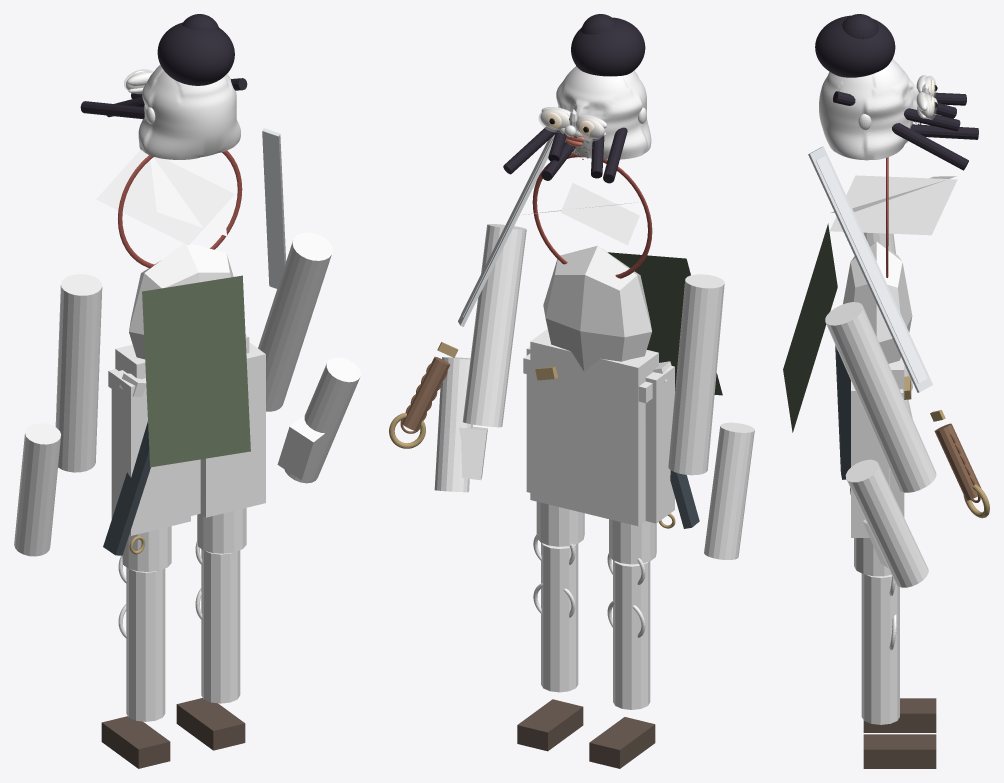
Rendered from ronin_character_v0.6.glb.
The picture shows the model from 3 angles, left to right: view 1: azimuth 30°, elevation 25°; view 2: azimuth 150°, elevation 25°; view 3: azimuth 270°, elevation 25°; orthographic projection. The views are drawn at different scales.
Visible parts, largest first — view 1: Cloth_Cloak_0, Cloth_SleeveUpper_L, Skin_Head, Cloth_Hem_1, Cloth_SleeveUpper_R, Cloth_TrouserShin_L, Cloth_TrouserShin_R, Cloth_Hem_2, Cloth_Lapel_L, Cloth_SleeveFore_L, Hair_Bun, Cloth_ShortTunic (+12 smaller); view 2: Cloth_Hem_0, Cloth_ShortTunic, Cloth_SleeveUpper_L, Cloth_SleeveUpper_R, Cloth_TrouserShin_R, Skin_Head, Cloth_TrouserShin_L, Cloth_SleeveFore_L, Cloth_Cloak_0, Cloth_Hem_1, Cloth_SleeveFore_R, Hair_Bun (+14 smaller); view 3: Cloth_SleeveUpper_R, Skin_Head, Cloth_TrouserShin_R, Cloth_Lapel_R, Cloth_SleeveFore_R, Cloth_Cloak_0, Hair_Bun, Cloth_ShortTunic, Metal_DaoEdge, Cloth_Shoe_R, Metal_DaoBlade, Cloth_Hem_2 (+12 smaller).
Part boxes in pixels (bbox=[...]): Cloth_Cloak_0: bbox=[142, 275, 250, 467]; Cloth_SleeveUpper_L: bbox=[55, 274, 102, 472]; Skin_Head: bbox=[138, 64, 240, 159]; Cloth_Hem_1: bbox=[111, 370, 190, 535]; Cloth_SleeveUpper_R: bbox=[258, 232, 332, 411]; Cloth_TrouserShin_L: bbox=[126, 567, 165, 721]; Cloth_TrouserShin_R: bbox=[201, 549, 240, 703]; Cloth_Hem_2: bbox=[200, 342, 265, 517]; Cloth_Lapel_L: bbox=[96, 149, 234, 245]; Cloth_SleeveFore_L: bbox=[14, 423, 60, 556]; Hair_Bun: bbox=[157, 22, 234, 85]; Cloth_ShortTunic: bbox=[129, 243, 233, 359]; Cloth_Hem_0: bbox=[530, 329, 658, 526]; Cloth_ShortTunic: bbox=[543, 245, 651, 371]; Cloth_SleeveUpper_L: bbox=[668, 274, 724, 475]; Cloth_SleeveUpper_R: bbox=[462, 224, 526, 427]; Cloth_TrouserShin_R: bbox=[541, 542, 578, 692]; Skin_Head: bbox=[553, 66, 651, 159]; Cloth_TrouserShin_L: bbox=[613, 560, 650, 709]; Cloth_SleeveFore_L: bbox=[704, 422, 754, 559]; Cloth_Cloak_0: bbox=[608, 252, 722, 395]; Cloth_Hem_1: bbox=[645, 363, 674, 523]; Cloth_SleeveFore_R: bbox=[434, 357, 472, 492]; Hair_Bun: bbox=[571, 17, 645, 76]; Cloth_SleeveUpper_R: bbox=[825, 302, 936, 492]; Skin_Head: bbox=[819, 59, 918, 160]; Cloth_TrouserShin_R: bbox=[861, 573, 899, 724]; Cloth_Lapel_R: bbox=[830, 175, 957, 235]; Cloth_SleeveFore_R: bbox=[845, 459, 928, 587]; Cloth_Cloak_0: bbox=[783, 223, 837, 432]; Hair_Bun: bbox=[815, 15, 895, 77]; Cloth_ShortTunic: bbox=[843, 241, 912, 363]; Metal_DaoEdge: bbox=[816, 155, 927, 383]; Cloth_Shoe_R: bbox=[863, 734, 936, 768]; Metal_DaoBlade: bbox=[808, 146, 932, 392]; Cloth_Hem_2: bbox=[851, 381, 889, 537].
Bounding box in the file's own units: 0.8704 × 1.89 × 0.4851.
